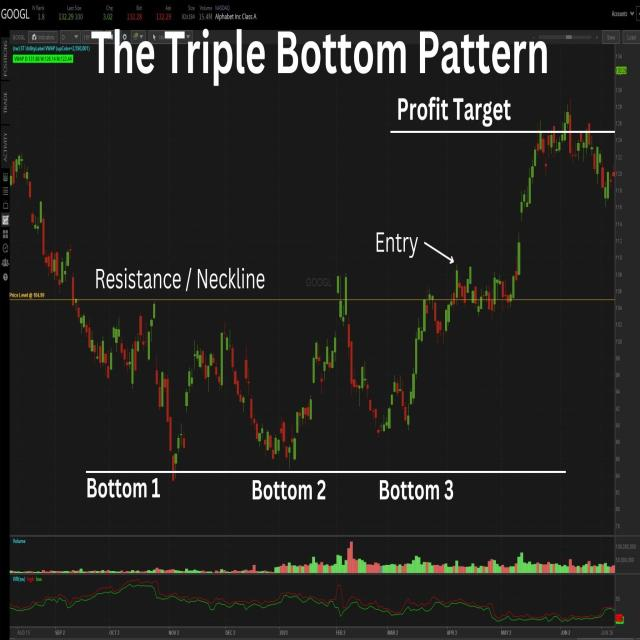Triple-Bottom: (151, 308, 432, 467)
